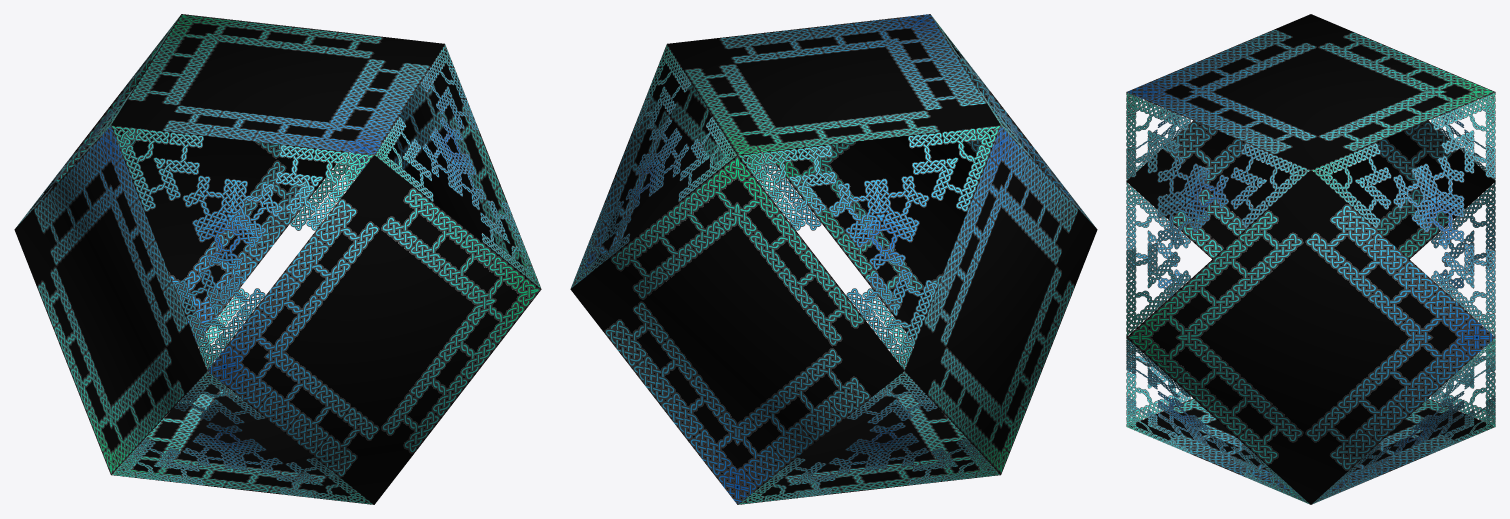
The model's file is 22Cuboctahedron.gltf.
3 views of the same model, side by side, from view 1: azimuth 30°, elevation 25°; view 2: azimuth 150°, elevation 25°; view 3: azimuth 270°, elevation 25° (orthographic). The views are drawn at different scales.
Visible parts, largest first — view 1: 22Cuboctahedron; view 2: 22Cuboctahedron; view 3: 22Cuboctahedron.
Boxes of the visible parts, bbox=[...] form: 22Cuboctahedron: bbox=[14, 14, 541, 504]; 22Cuboctahedron: bbox=[570, 14, 1097, 504]; 22Cuboctahedron: bbox=[1126, 14, 1495, 504].
Bounding box in the file's own units: 1.41 × 1.41 × 1.41.
2 materials, 2 textured.
